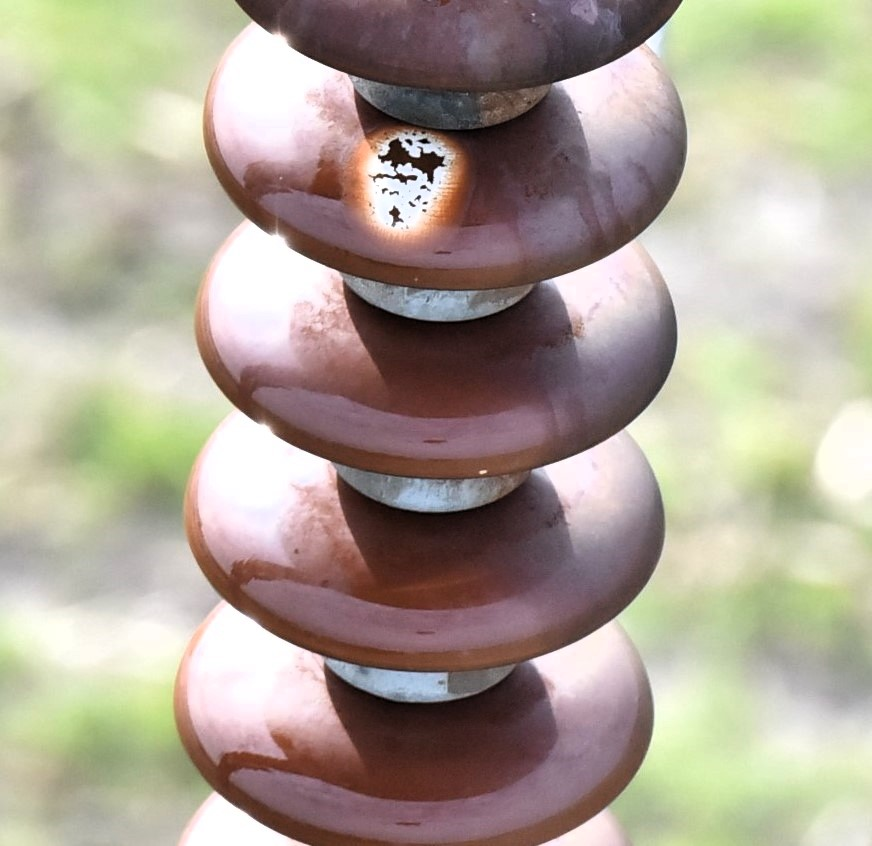Insulator flashover: (190, 16, 693, 299)
